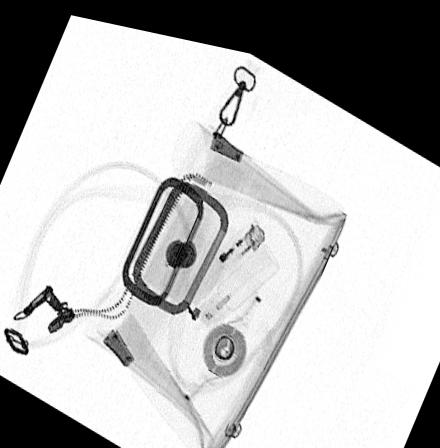Lighter: (184, 208, 264, 297)
